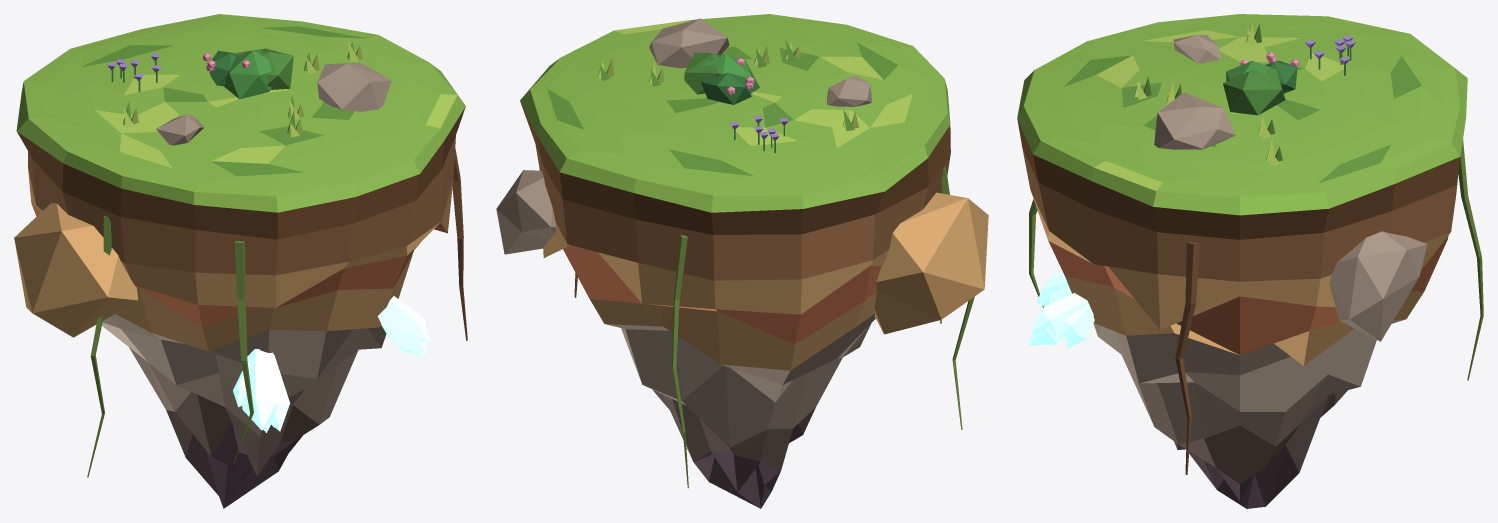
File: islet_b.glb
The picture shows the model from 3 angles, left to right: view 1: azimuth 30°, elevation 25°; view 2: azimuth 150°, elevation 25°; view 3: azimuth 270°, elevation 25°; orthographic projection. The views are drawn at different scales.
Visible parts, largest first — view 1: Island-col, Debris, Dressing, Crystals, Roots; view 2: Island-col, Debris, Dressing, Roots; view 3: Island-col, Dressing, Debris, Roots, Crystals.
Boxes of the visible parts, bbox=[...] form: Island-col: bbox=[16, 14, 465, 508]; Debris: bbox=[14, 203, 138, 337]; Dressing: bbox=[107, 40, 391, 145]; Crystals: bbox=[233, 296, 428, 432]; Roots: bbox=[87, 148, 467, 477]; Island-col: bbox=[520, 14, 950, 508]; Debris: bbox=[496, 170, 988, 334]; Dressing: bbox=[598, 18, 872, 153]; Roots: bbox=[574, 167, 974, 488]; Island-col: bbox=[1017, 14, 1467, 508]; Dressing: bbox=[1134, 22, 1355, 165]; Debris: bbox=[1329, 231, 1427, 341]; Roots: bbox=[1029, 139, 1483, 474]; Crystals: bbox=[1028, 272, 1094, 348].
Size of the model in its own units: 13.28 by 13.47 by 12.26.
